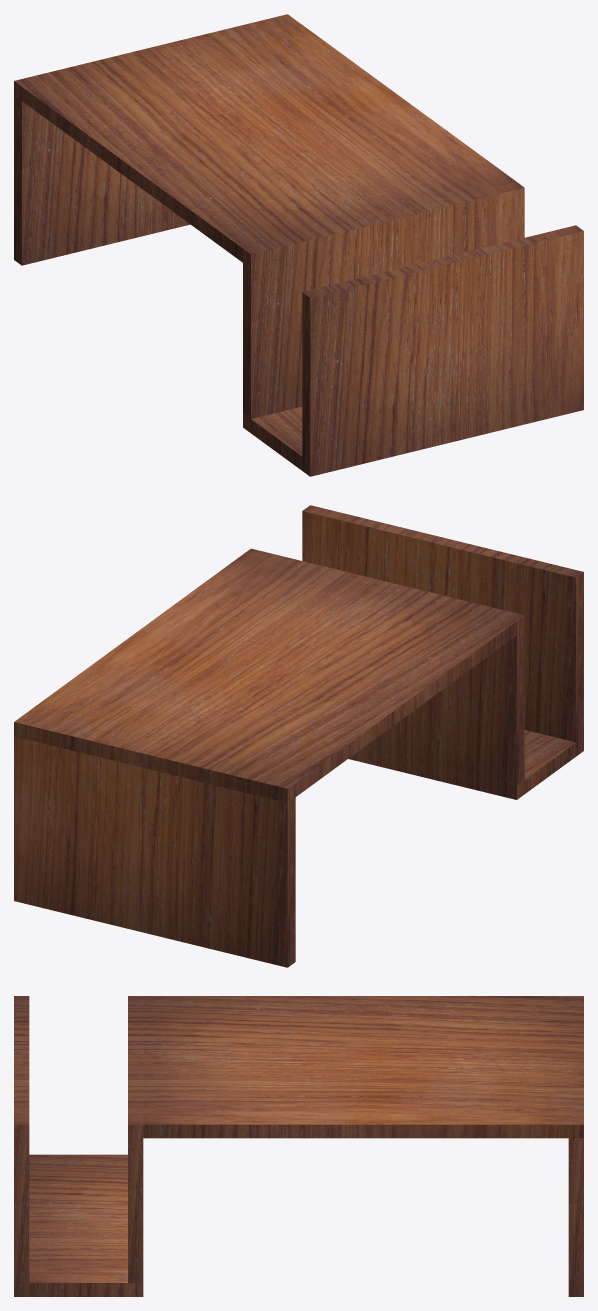
Rendered from table3d-3.glb.
3 renders of one model, top to bottom at view 1: azimuth 30°, elevation 25°; view 2: azimuth 150°, elevation 25°; view 3: azimuth 270°, elevation 25°, orthographic. The views are drawn at different scales.
Size of the model in its own units: 0.8 by 0.5 by 1.5.
Materials: 1 (1 with a texture image).
